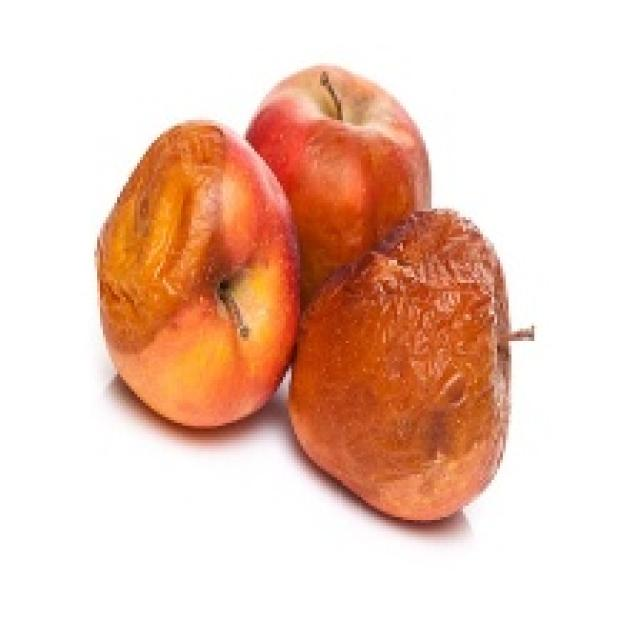rotten_apple: (298, 211, 509, 520), (99, 126, 293, 425)
